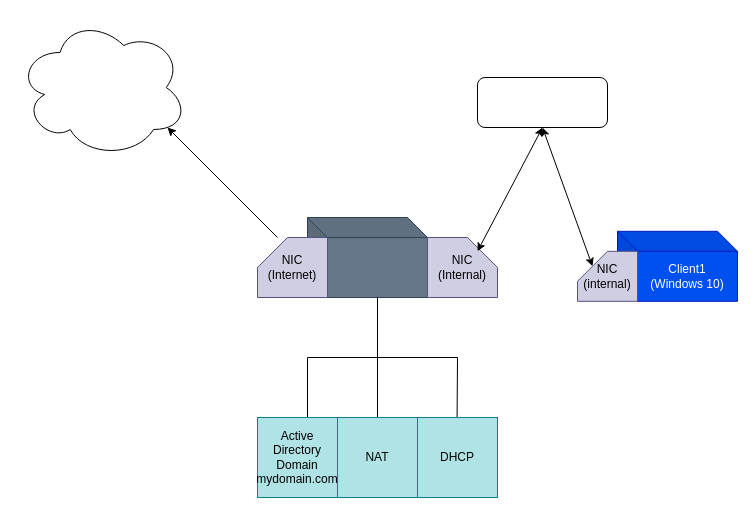
Image size: 755x515. Some labels were removed from this diagram. The centre of each missing label's shape, as x and y in pixels:
"Domain Controller (Server 2019)" goes at [367,257].
"Internal network" goes at [542,102].
"INTERNET" goes at [102,87].
